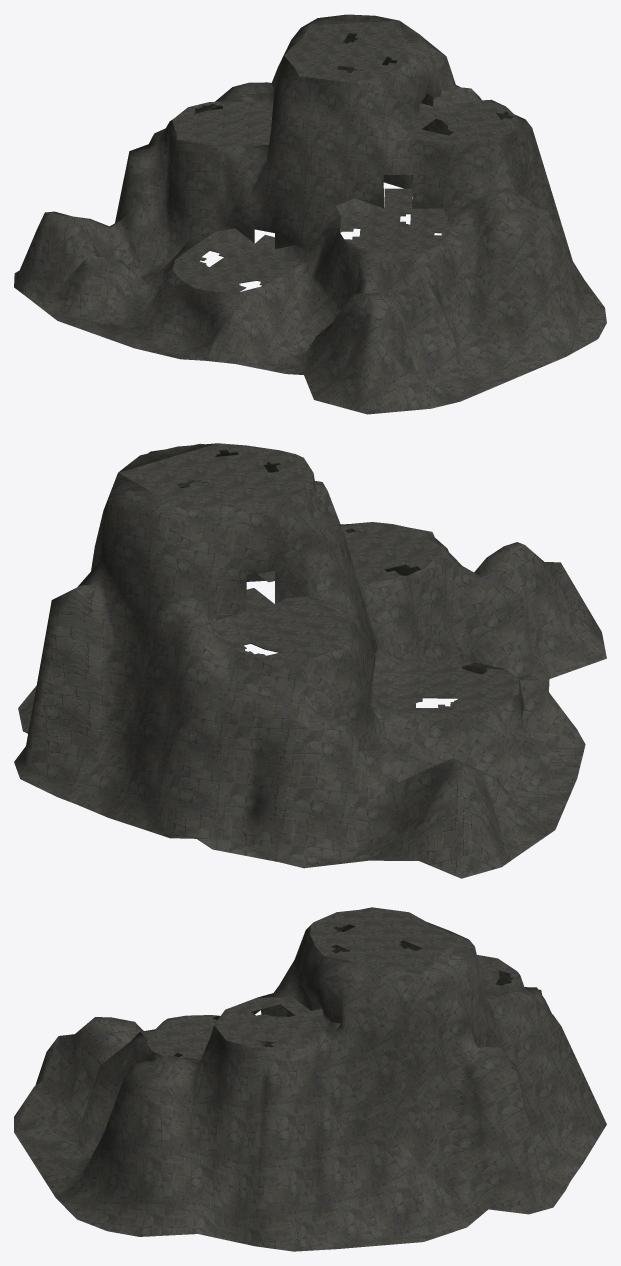
File: f_1136_floor_t4m.FBX
3 renders of one model, top to bottom at view 1: azimuth 30°, elevation 25°; view 2: azimuth 150°, elevation 25°; view 3: azimuth 270°, elevation 25°, orthographic. The views are drawn at different scales.
Parts seen in each view (by area): view 1: f_1136_floor_t4m; view 2: f_1136_floor_t4m; view 3: f_1136_floor_t4m.
Part boxes in pixels (<box>): f_1136_floor_t4m: <box>14,14,606,414</box>; f_1136_floor_t4m: <box>14,443,606,878</box>; f_1136_floor_t4m: <box>14,907,606,1251</box>.
Size of the model in its own units: 11340 by 5210 by 12140.
